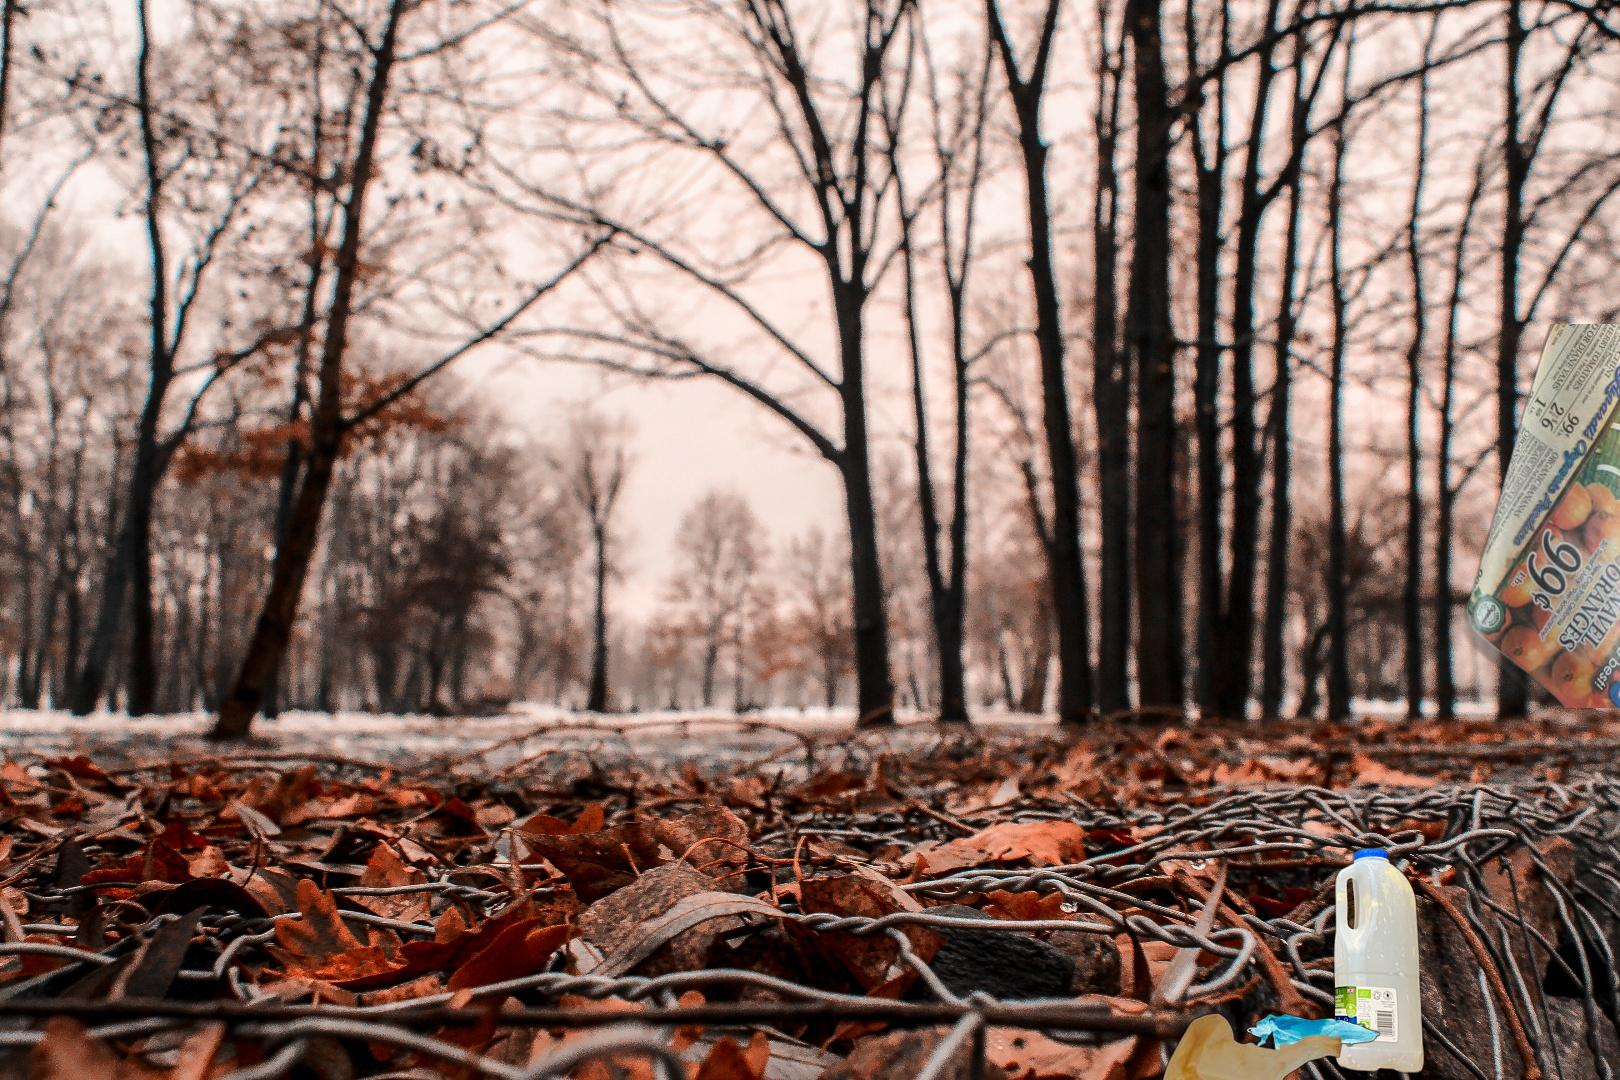paper: (1454, 324, 1620, 708)
plastic-bag: (1158, 963, 1396, 1080)
plastic-bottles: (1154, 513, 1430, 1080)
